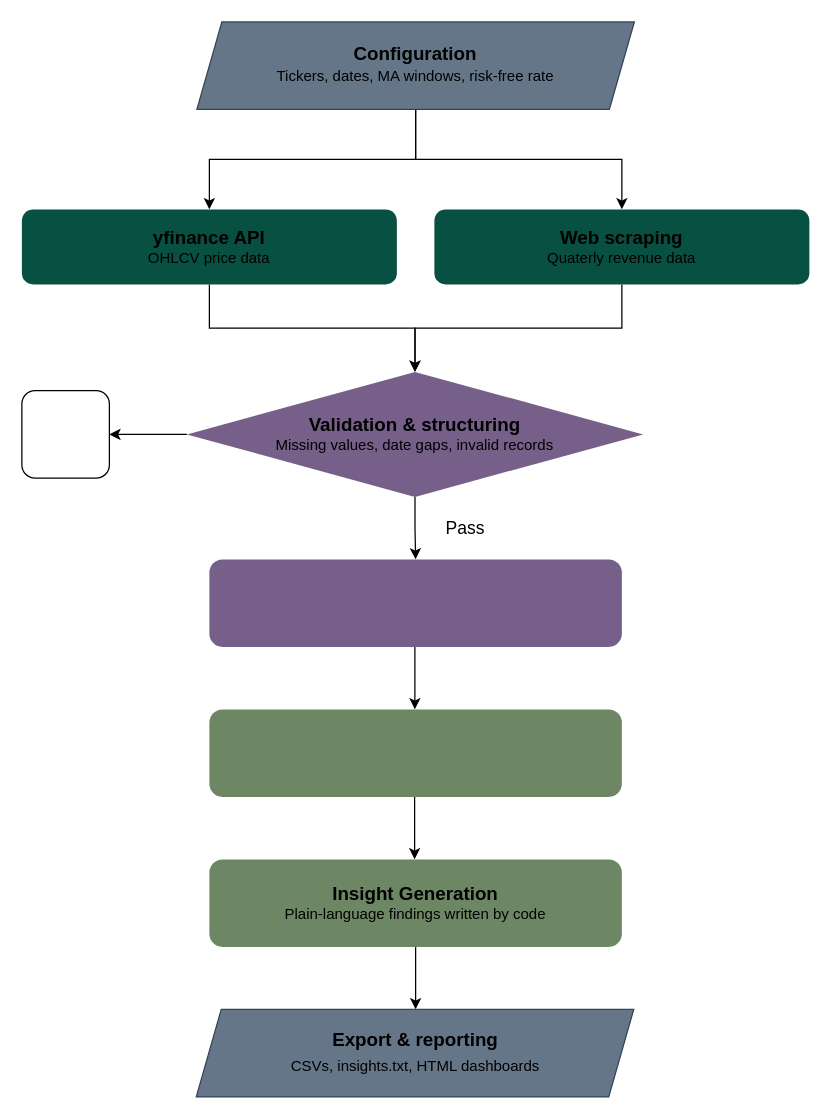
The diagram is 831 pixels wide and 1119 high, and some of its shapes have lost their labels. The centre of each missing label's shape, as x and y in pixels:
Fail Stop: the point at 65,433
Quantitative Analysis Return, volatility, Sharpe ratio, max drawdown, CAGR: the point at 415,602
Visualization 9 interactive Plotly HTML charts: the point at 415,752
